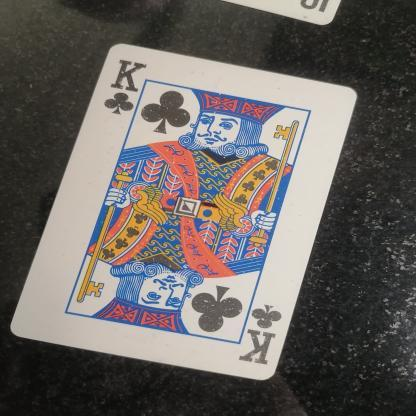KC: (237, 300, 292, 378), (86, 58, 162, 112)
